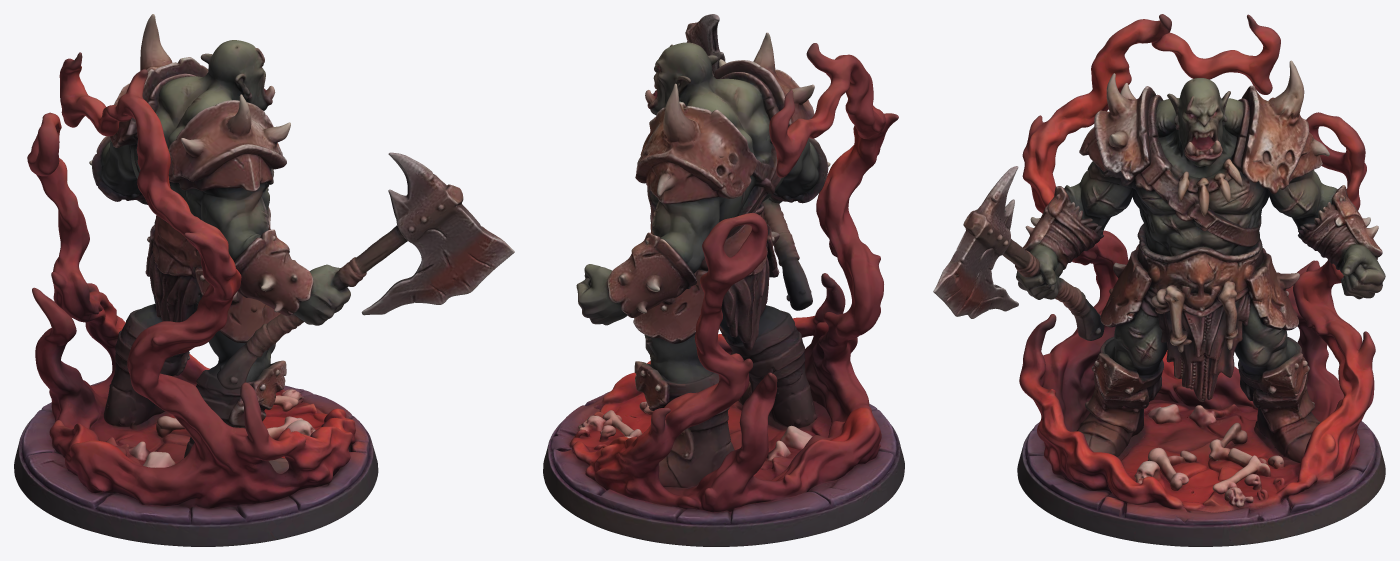
File: compress_38bj7w_m3ci6tos3.glb
The picture shows the model from 3 angles, left to right: view 1: azimuth 30°, elevation 25°; view 2: azimuth 150°, elevation 25°; view 3: azimuth 270°, elevation 25°; orthographic projection.
Parts seen in each view (by area): view 1: tripo_node_5aef0d02-1434-43e4-85eb-b57e5a777eb4; view 2: tripo_node_5aef0d02-1434-43e4-85eb-b57e5a777eb4; view 3: tripo_node_5aef0d02-1434-43e4-85eb-b57e5a777eb4.
Boxes of the visible parts, x1,y1,x2,y2 form: tripo_node_5aef0d02-1434-43e4-85eb-b57e5a777eb4: (14, 14, 514, 546); tripo_node_5aef0d02-1434-43e4-85eb-b57e5a777eb4: (543, 14, 904, 546); tripo_node_5aef0d02-1434-43e4-85eb-b57e5a777eb4: (933, 14, 1385, 546).
Size of the model in its own units: 0.8257 by 1 by 0.9691.
1 material, 1 textured.
